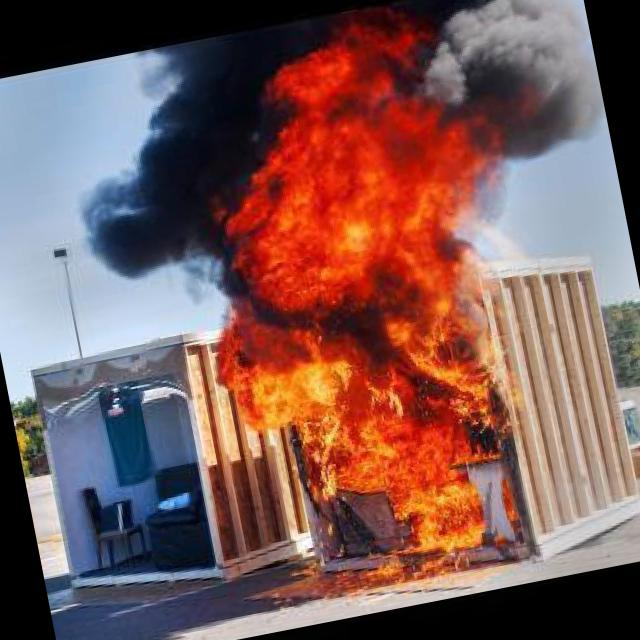Fire: (162, 14, 548, 596)
Smoke: (48, 64, 238, 292), (429, 0, 611, 181)
